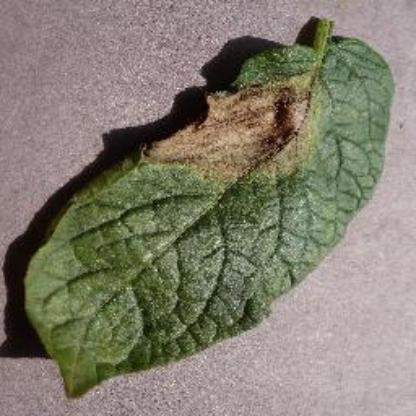Late-Blight: (24, 17, 414, 402)
